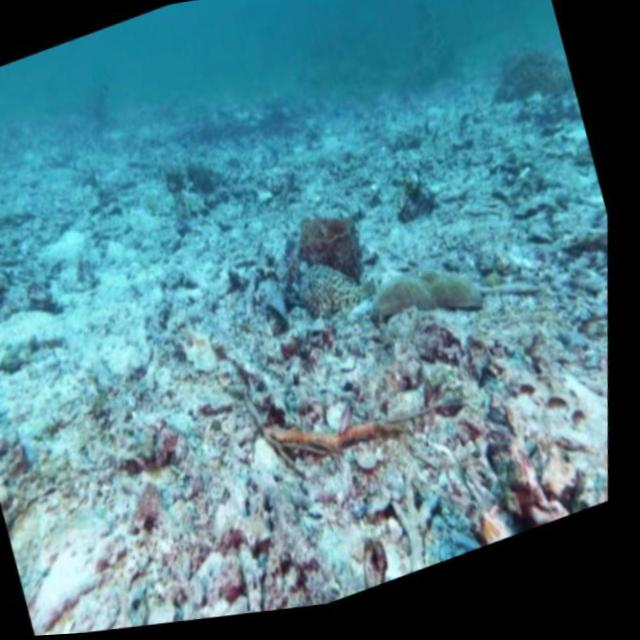Dead Coral: (0, 40, 637, 640)
